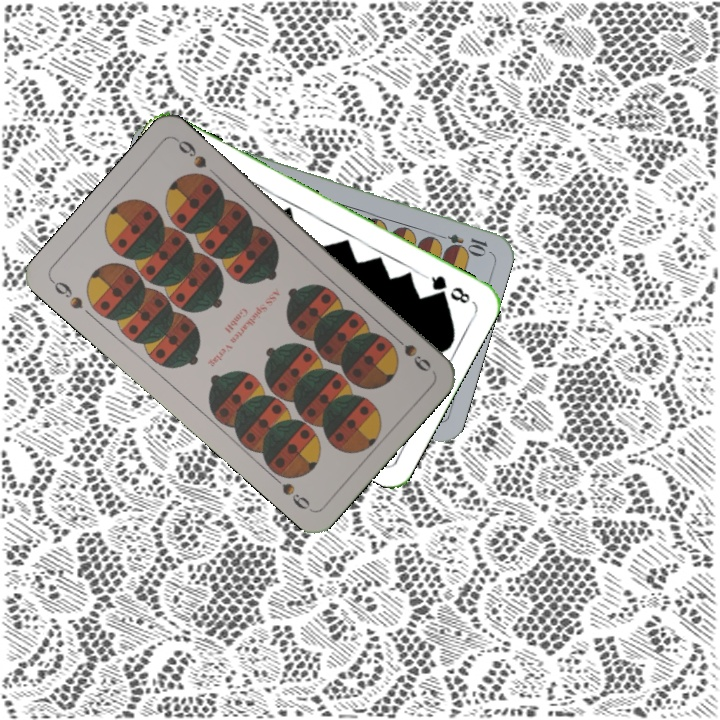E10: (431, 229, 490, 256)
G8: (421, 271, 473, 306)
S9: (387, 329, 434, 375), (47, 275, 86, 312)
